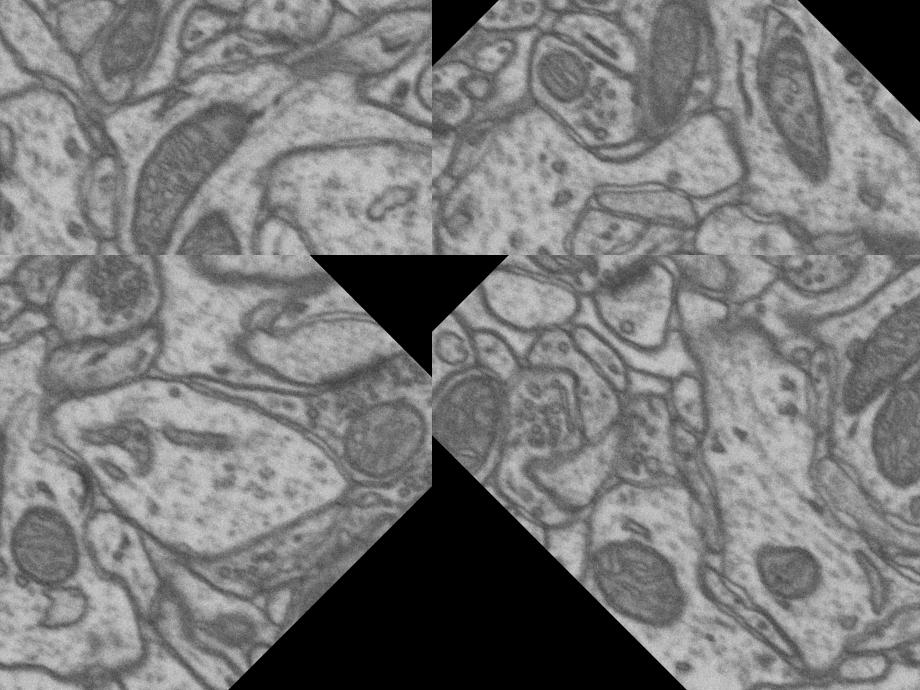mitochondria: (85, 78, 281, 255), (708, 18, 894, 203), (582, 0, 765, 153), (809, 255, 920, 449), (565, 508, 709, 652), (832, 328, 920, 506), (319, 377, 432, 503), (0, 482, 107, 610), (432, 352, 539, 479), (0, 398, 70, 578), (505, 21, 610, 127), (71, 0, 188, 94), (734, 519, 838, 622), (143, 192, 283, 255), (266, 557, 342, 632), (730, 657, 877, 690), (512, 255, 609, 300), (533, 0, 648, 28)
